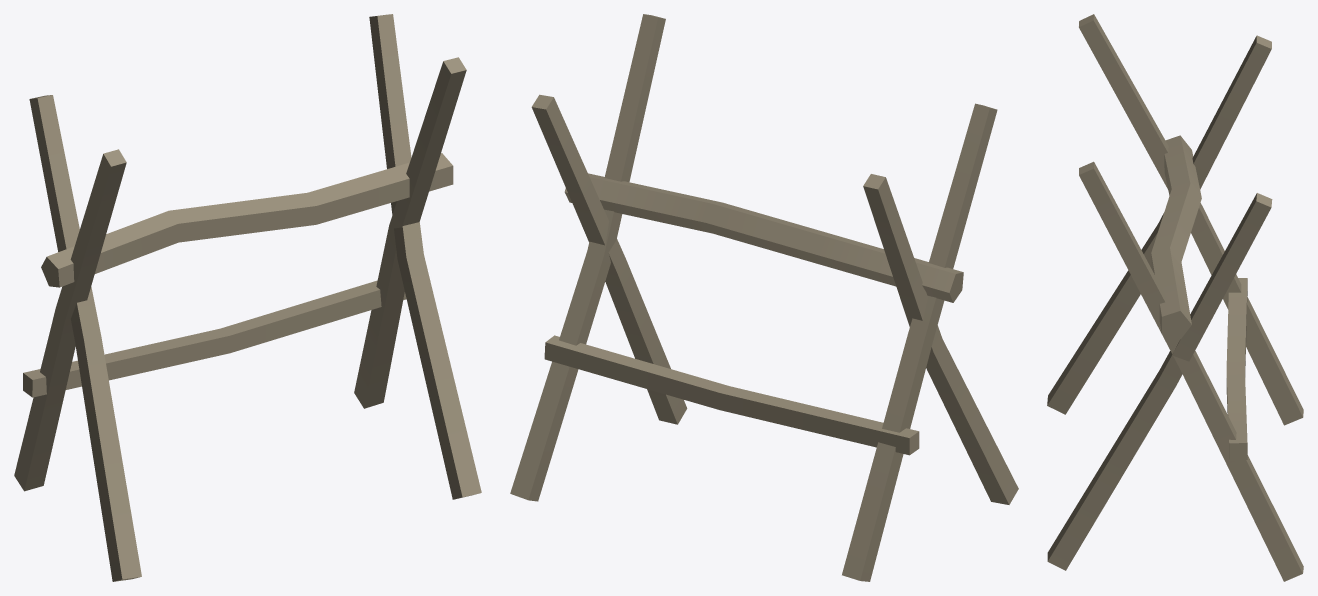
Rendered from BuckFenceEnd.fbx.
The picture shows the model from 3 angles, left to right: view 1: azimuth 30°, elevation 25°; view 2: azimuth 150°, elevation 25°; view 3: azimuth 270°, elevation 25°; orthographic projection. The views are drawn at different scales.
Visible parts, largest first — view 1: BuckFenceEnd; view 2: BuckFenceEnd; view 3: BuckFenceEnd.
Part boxes in pixels (bbox=[...]): BuckFenceEnd: bbox=[14, 14, 481, 581]; BuckFenceEnd: bbox=[510, 14, 1018, 581]; BuckFenceEnd: bbox=[1047, 14, 1303, 581].
Bounding box in the file's own units: 1.17 × 1.2 × 0.6928.
